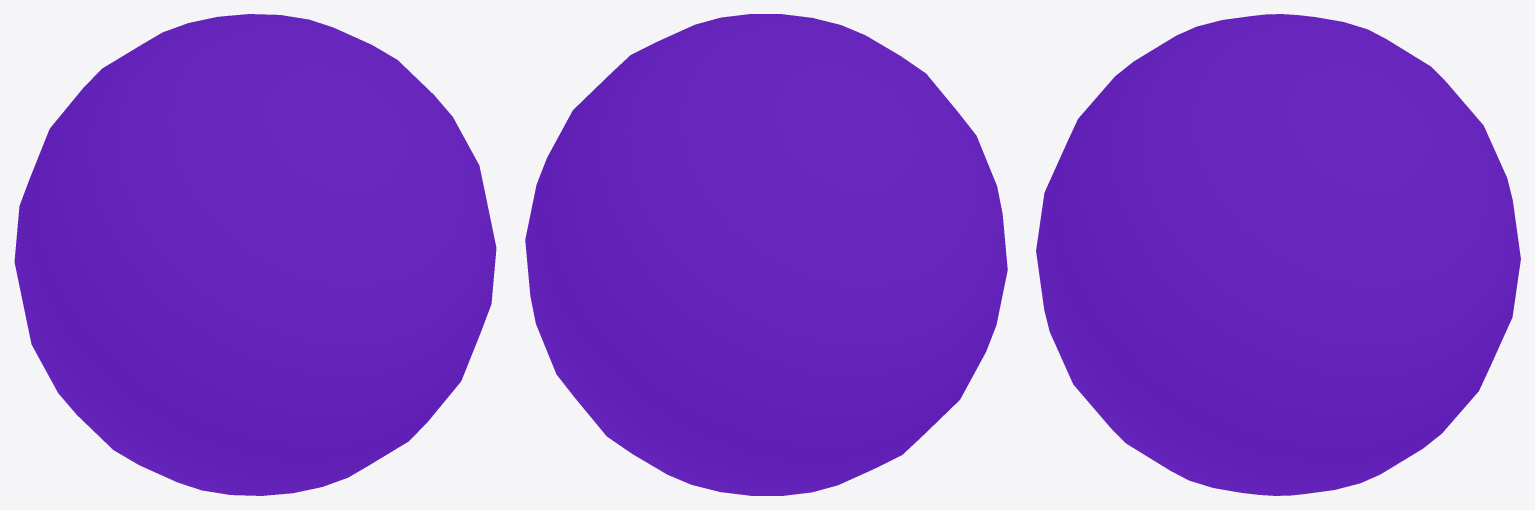
The model's file is infinity-symbol (1).fbx.
3 views of the same model, side by side, from view 1: azimuth 30°, elevation 25°; view 2: azimuth 150°, elevation 25°; view 3: azimuth 270°, elevation 25° (orthographic).
Visible parts, largest first — view 1: Sphere; view 2: Sphere; view 3: Sphere.
Boxes of the visible parts, x1=… form: Sphere: x1=14, y1=14, x2=496, y2=495; Sphere: x1=525, y1=14, x2=1007, y2=495; Sphere: x1=1036, y1=14, x2=1520, y2=495.
Size of the model in its own units: 39.9 by 39.93 by 39.97.
